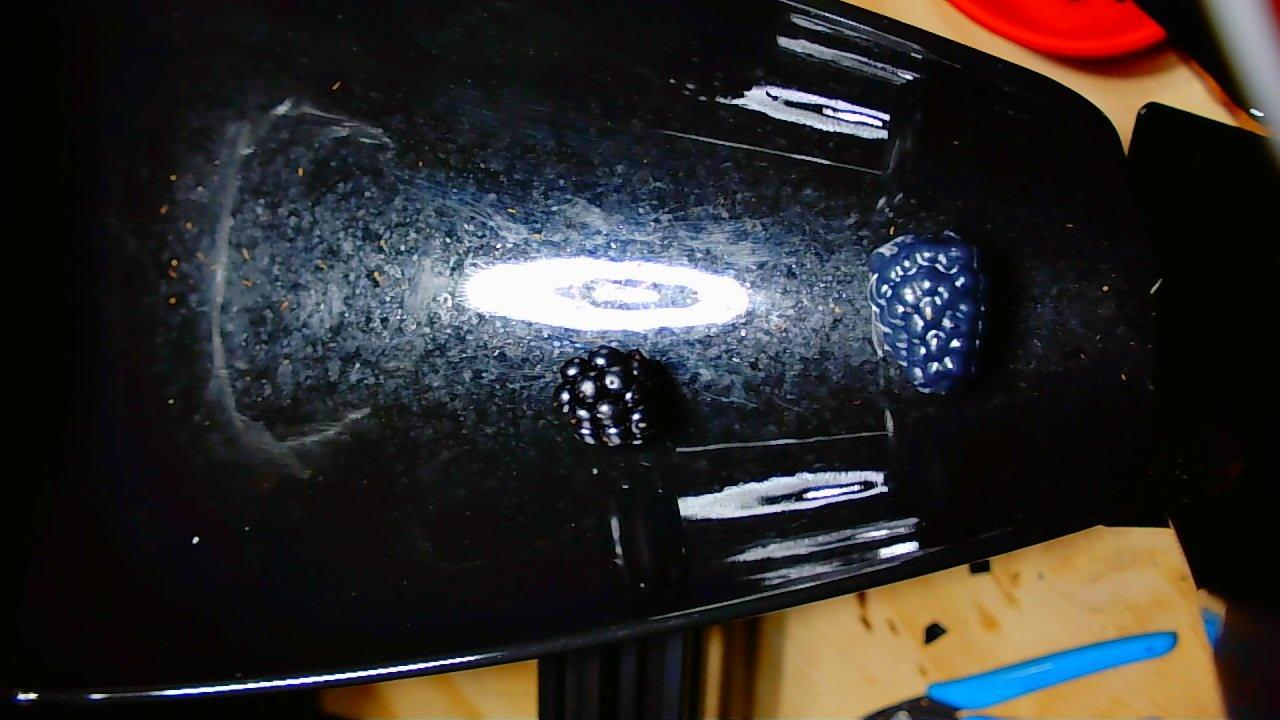berry: (867, 231, 986, 393), (553, 346, 666, 446)
